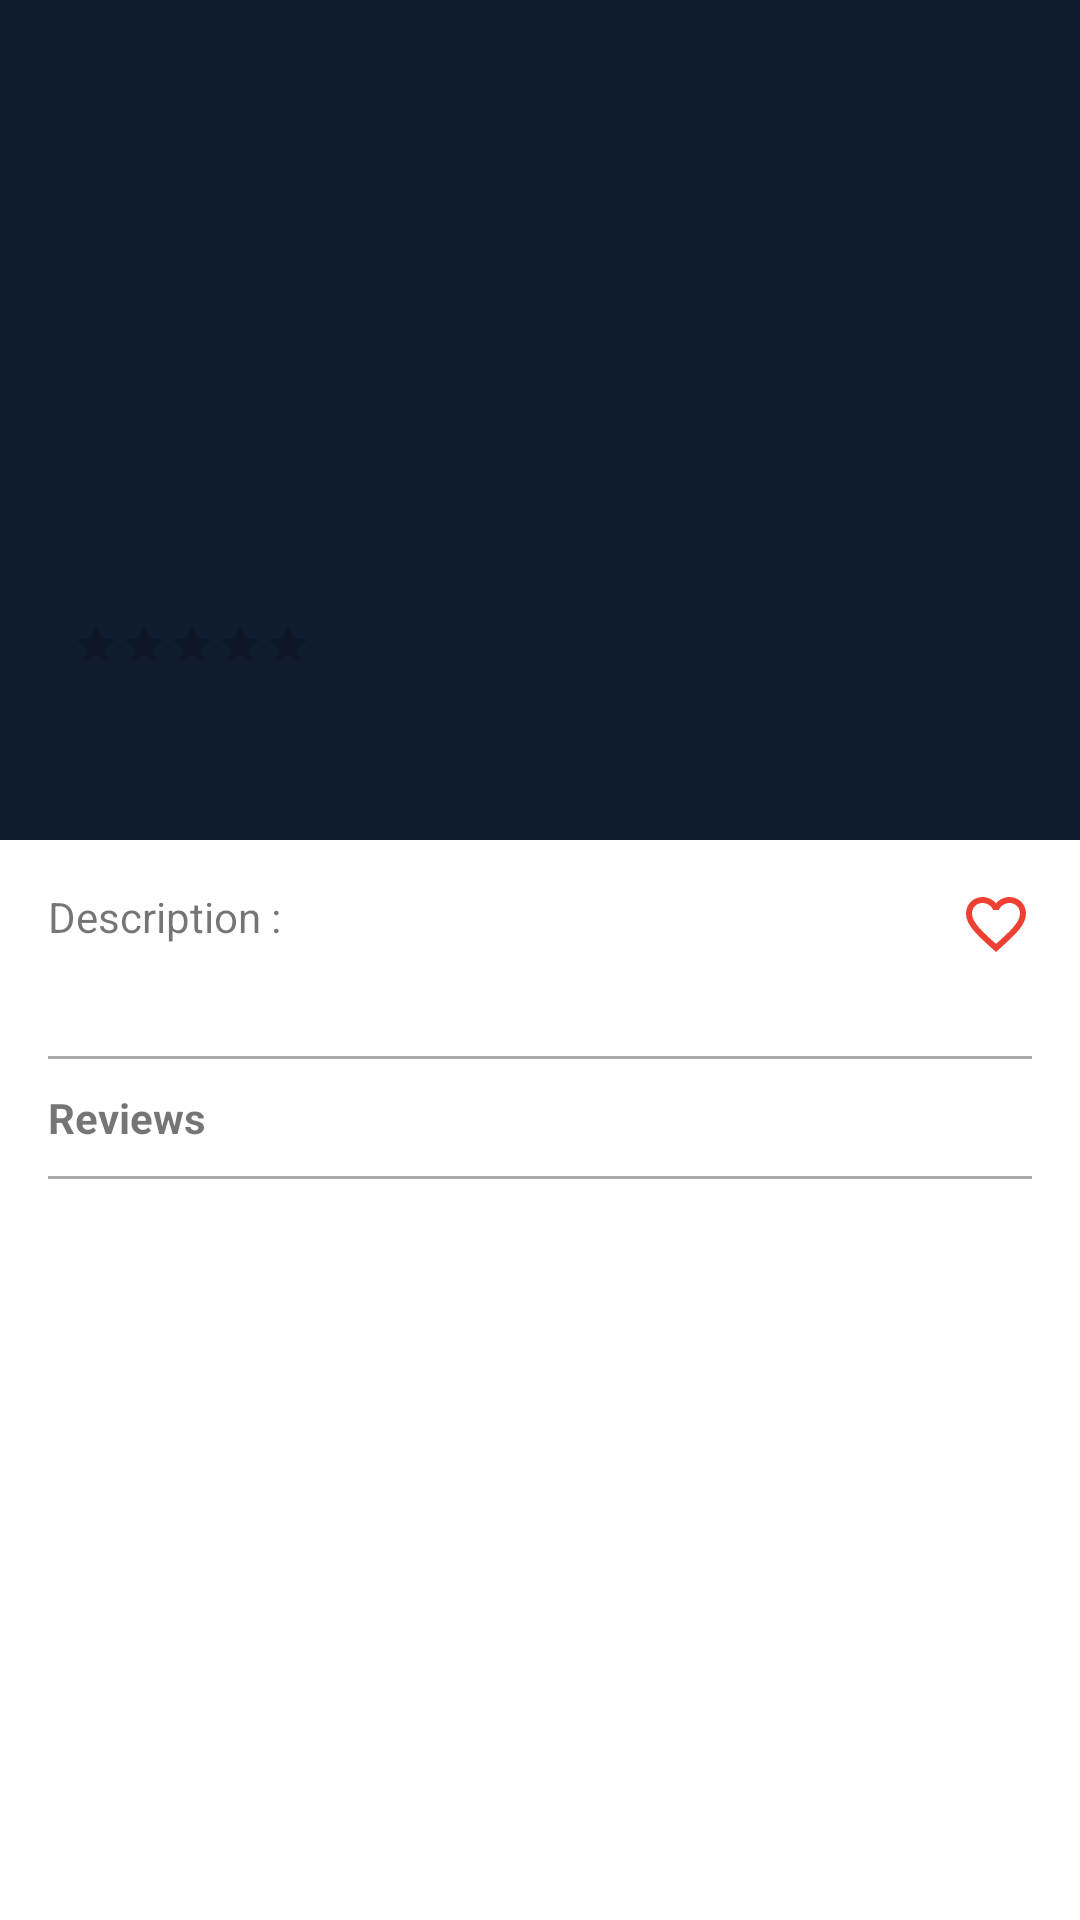

Icons on this 1080 x 1920 Android screen, each with the point to tap as [x,y]:
Favorite Button: [996,924]
